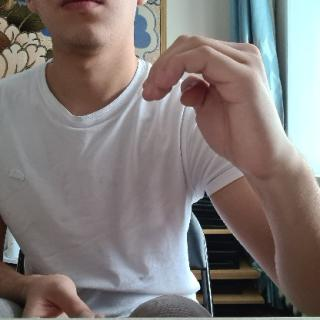JEEM: (139, 28, 297, 182)
